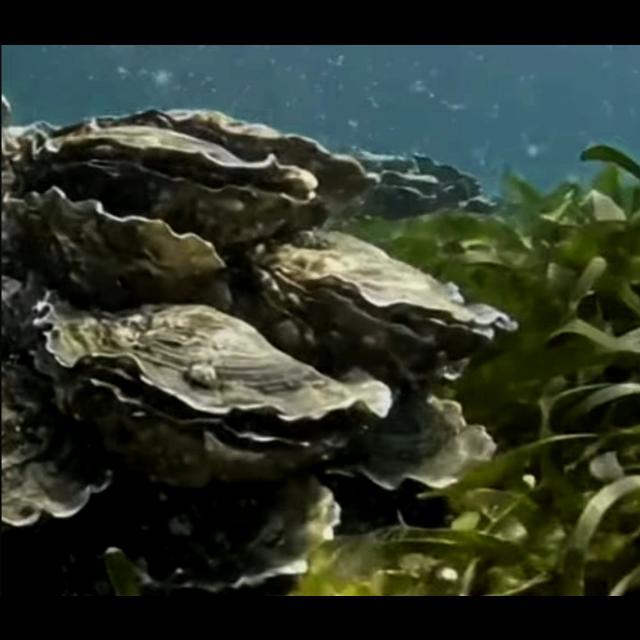Oyster-Closed: (92, 108, 378, 215), (113, 466, 337, 592), (1, 186, 222, 302), (0, 340, 112, 526), (318, 383, 494, 492)
Oyster-Open: (31, 288, 390, 490), (242, 227, 514, 379), (16, 126, 316, 250)
